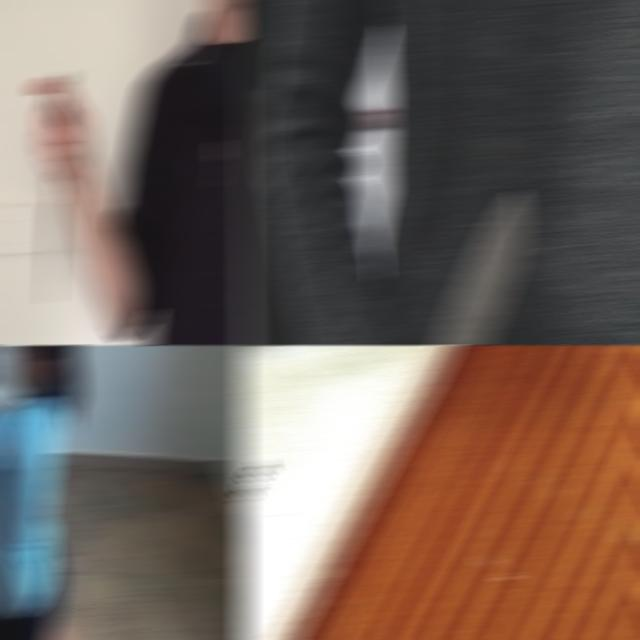Knife: (422, 190, 529, 345)
Knife_Handle: (369, 189, 528, 345), (30, 66, 82, 301)
